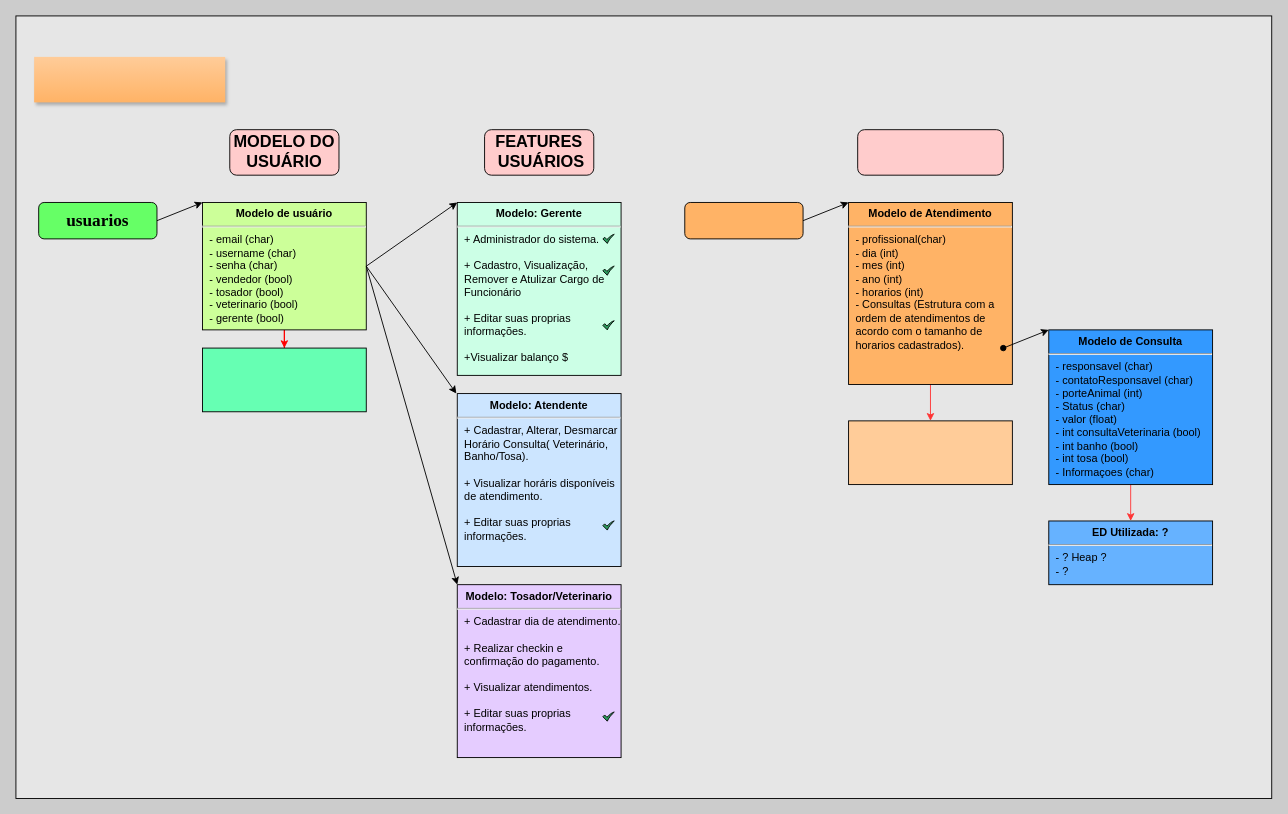
The diagram is 1288 pixels wide and 814 high, and some of its shapes have lost their labels. Here are the shapes that lost their labels. From the top down, the centre of each, then its label:
(130,80): ED2 Sistema AuqMia
(930,152): MODELO DO ATENDIMENTO
(743,220): atendimento
(284,379): ED Utilizada: Tabela Hash - quantidade, TAM_TAB - usuarios
(930,452): ED Utilizada: ? - ? Arvore Binária ? - ?
